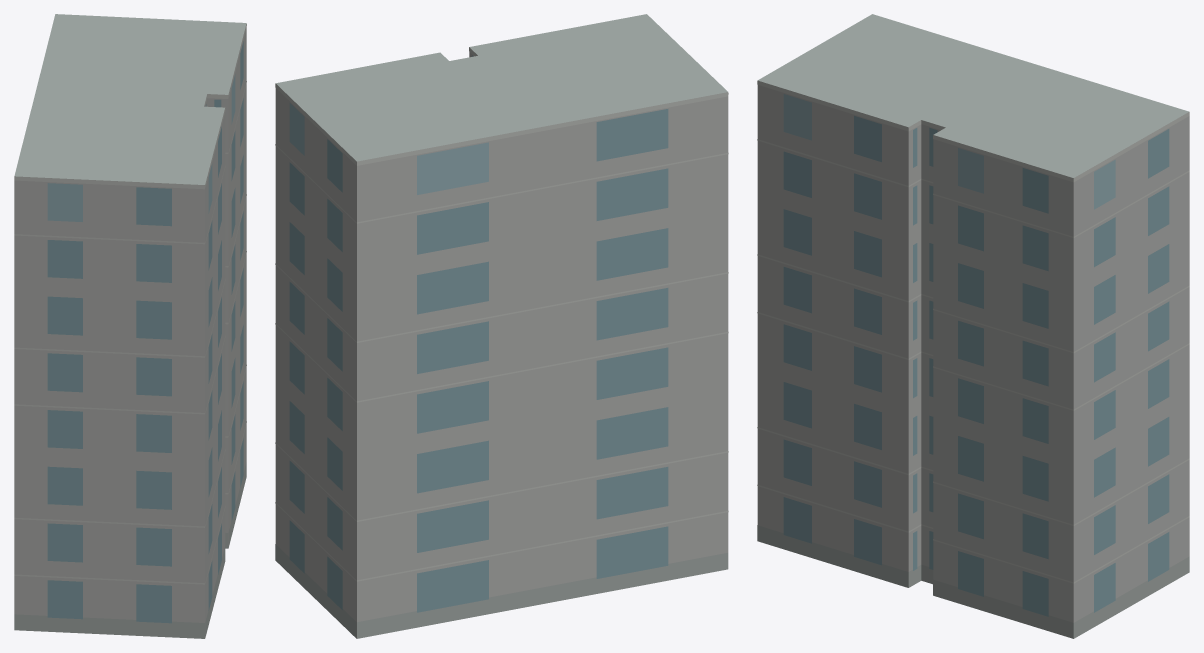
Rendered from survey-upis-32704567.glb.
3 views of the same model, side by side, from view 1: azimuth 30°, elevation 25°; view 2: azimuth 150°, elevation 25°; view 3: azimuth 270°, elevation 25° (orthographic). The views are drawn at different scales.
Parts seen in each view (by area): view 1: survey-upis-32704567.tmp; view 2: survey-upis-32704567.tmp; view 3: survey-upis-32704567.tmp.
Boxes of the visible parts, left/top/right/bottom form: survey-upis-32704567.tmp: left=14, top=14, right=246, bottom=638; survey-upis-32704567.tmp: left=275, top=14, right=728, bottom=638; survey-upis-32704567.tmp: left=757, top=14, right=1189, bottom=638.
Size of the model in its own units: 20.43 by 26.7 by 22.71.
